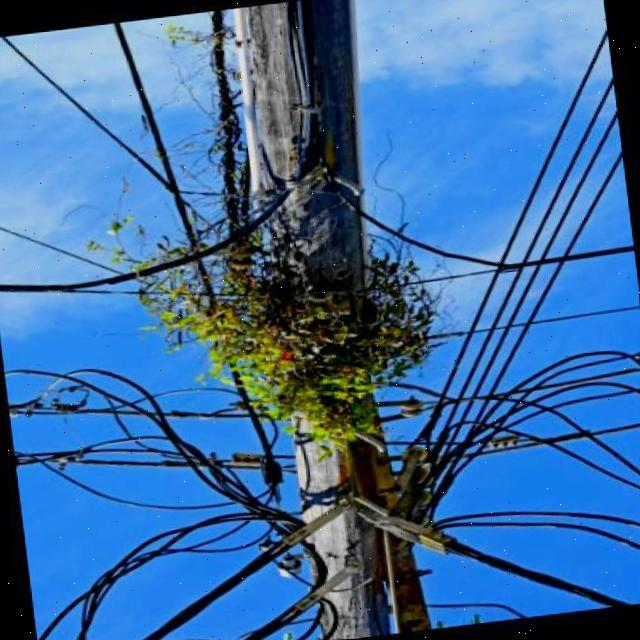critical vegetation: (169, 19, 488, 640)
